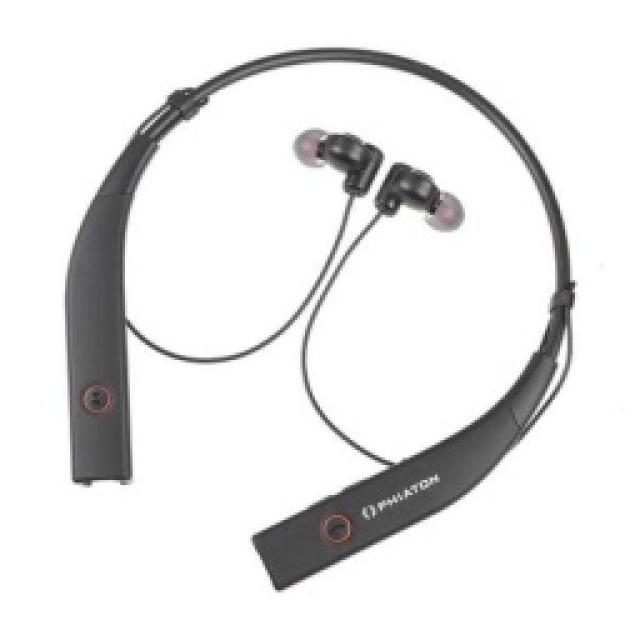headphones: (63, 42, 575, 590)
